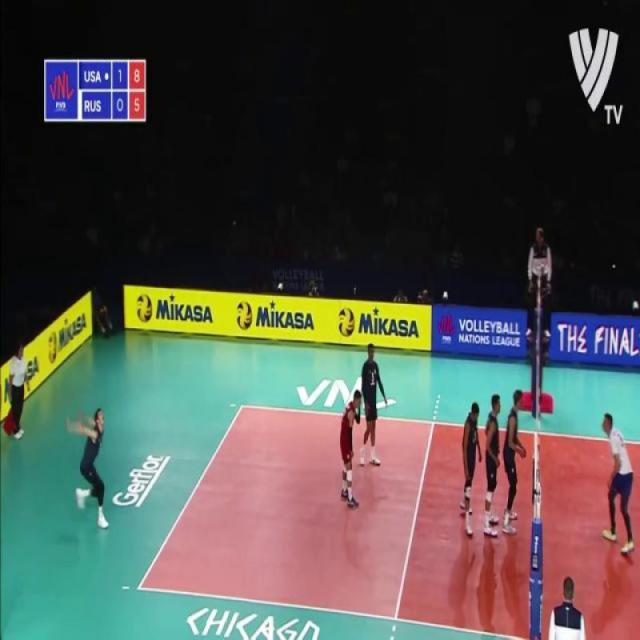volleyball: (135, 293, 154, 325), (235, 301, 254, 332), (338, 307, 356, 338), (48, 332, 58, 365)
